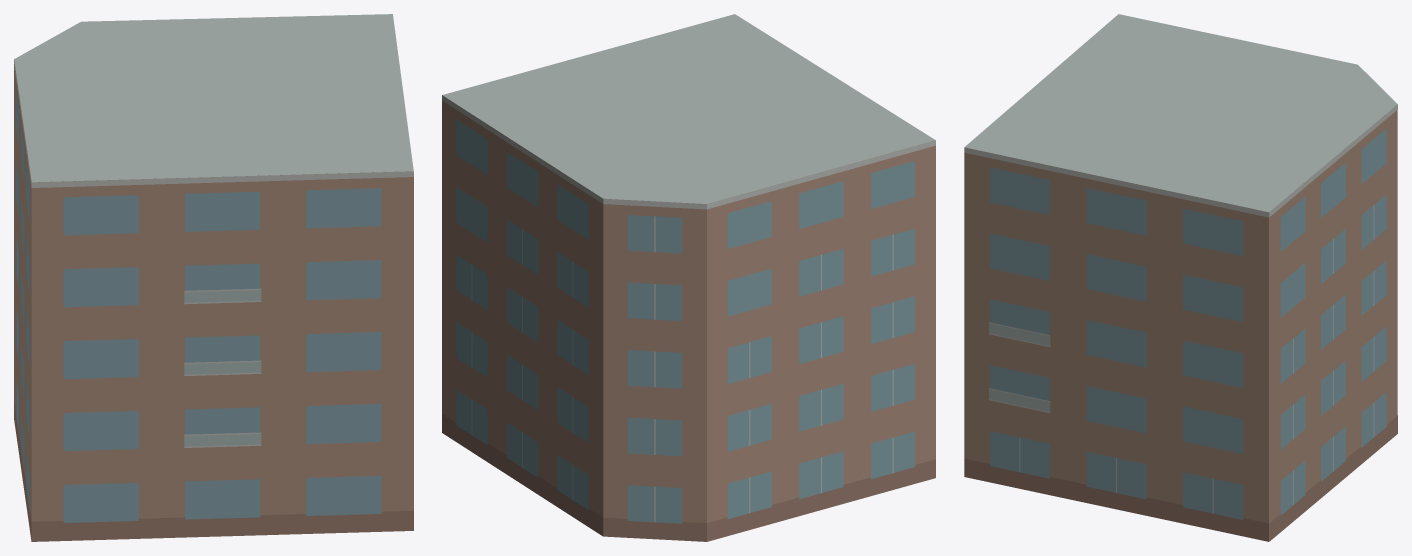
The model's file is survey-upis-32848585.glb.
3 views of the same model, side by side, from view 1: azimuth 30°, elevation 25°; view 2: azimuth 150°, elevation 25°; view 3: azimuth 270°, elevation 25° (orthographic). The views are drawn at different scales.
Parts seen in each view (by area): view 1: survey-upis-32848585.tmp; view 2: survey-upis-32848585.tmp; view 3: survey-upis-32848585.tmp.
Boxes of the visible parts, left/top/right/bottom form: survey-upis-32848585.tmp: left=14, top=14, right=413, bottom=541; survey-upis-32848585.tmp: left=442, top=14, right=935, bottom=541; survey-upis-32848585.tmp: left=964, top=14, right=1397, bottom=541.
Size of the model in its own units: 19.75 by 15.3 by 18.25.
